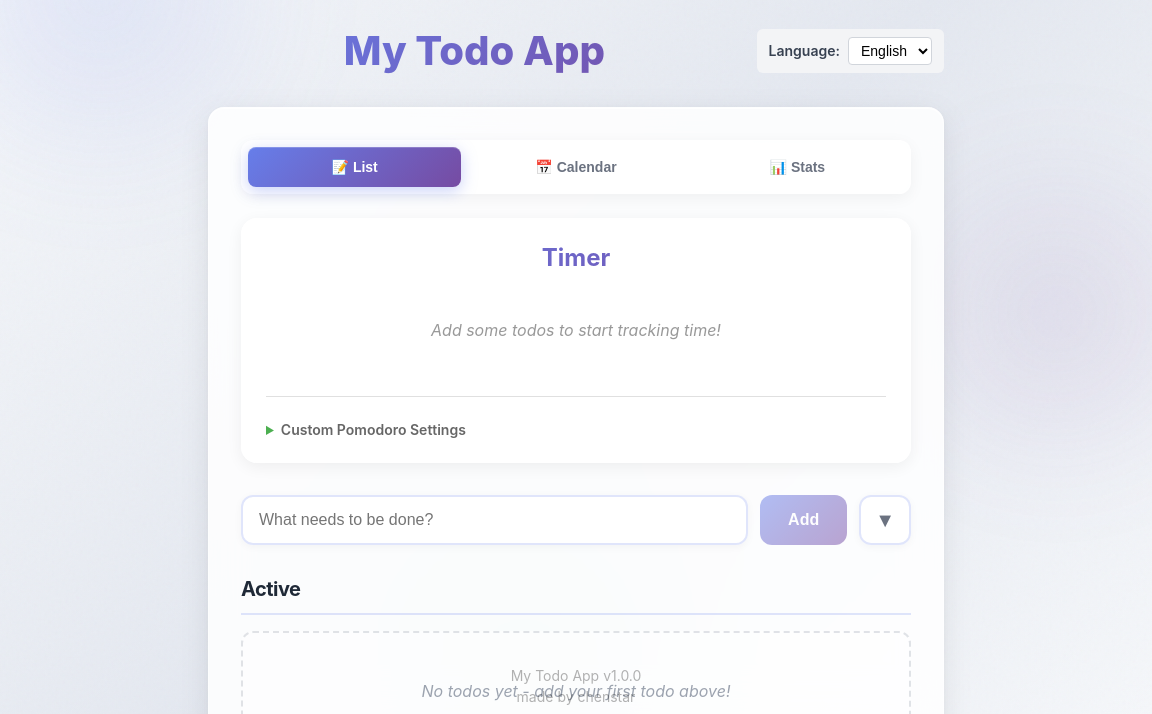
Todo App Integration - Mark Complete › should move completed todos to separate section
In the field: coordinates (495, 520) [241, 495, 748, 545], type "Active todo"
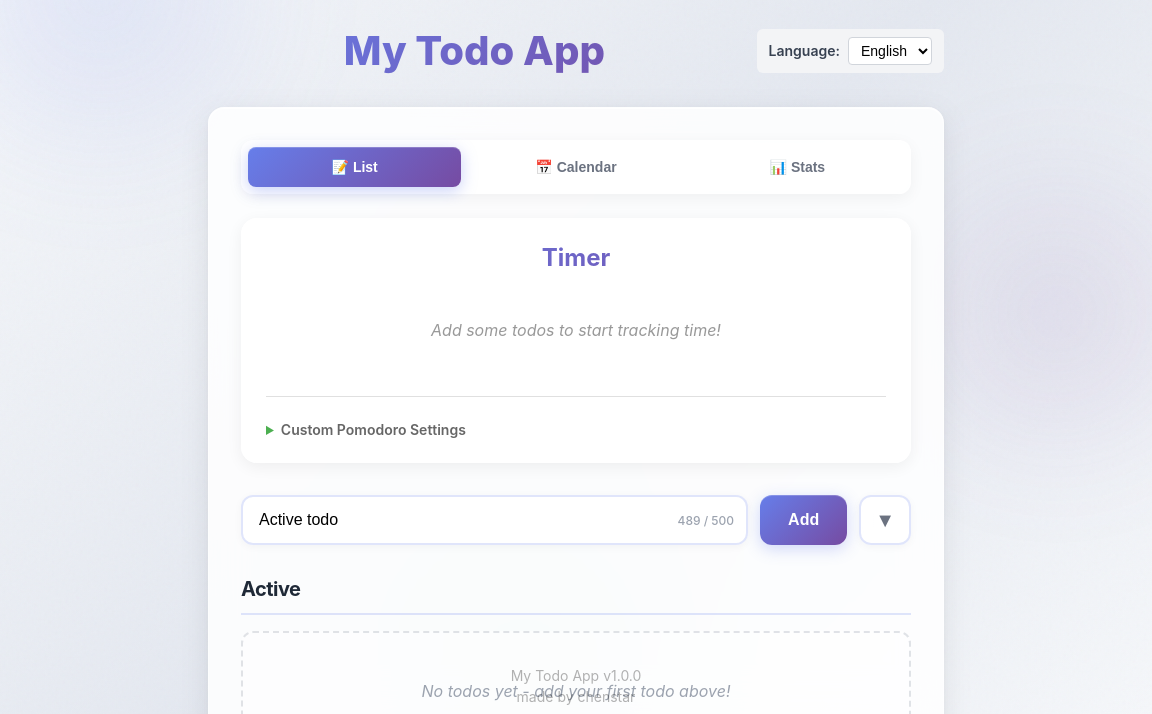
Submit the form, box [241, 495, 911, 545]
(page scrolled)
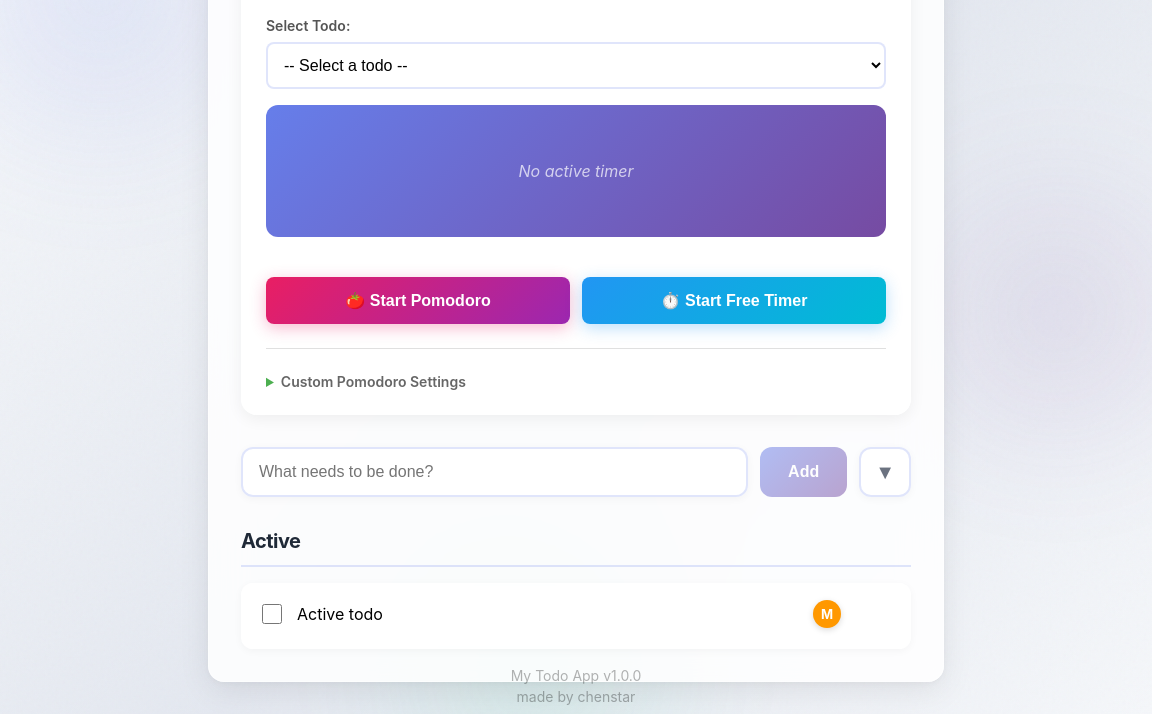
In the field: coordinates (495, 472) [241, 447, 748, 497], type "Completed todo"
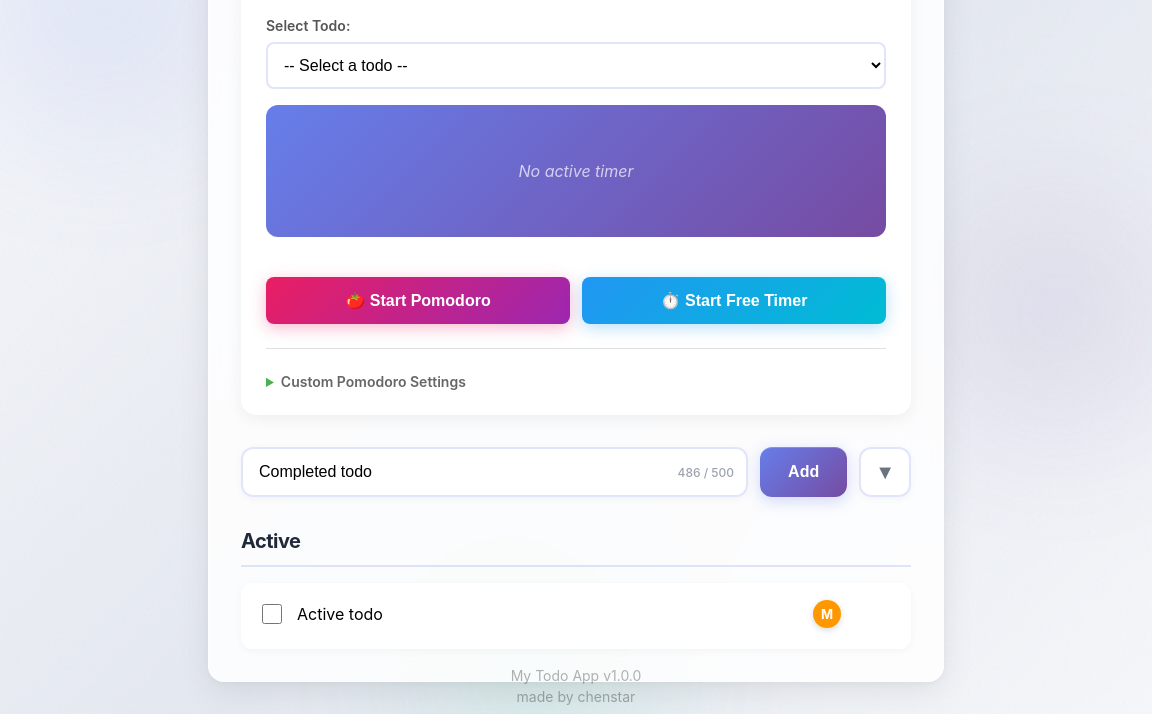
Submit the form, box [241, 447, 911, 497]
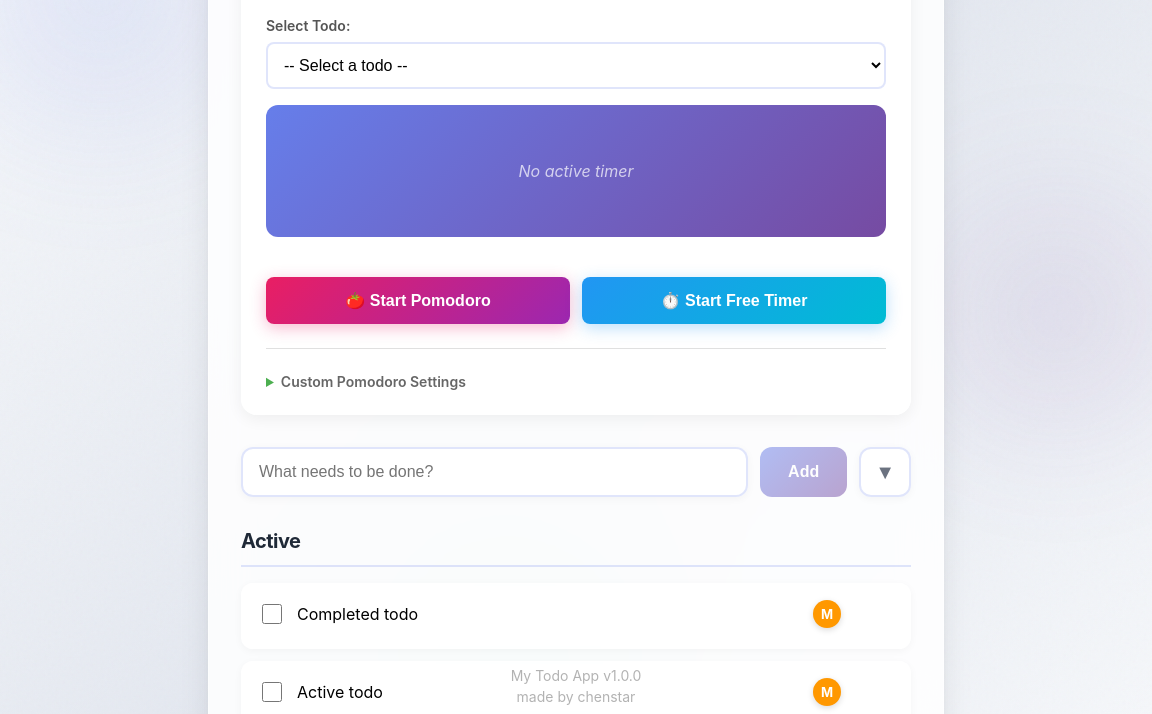
Click the checkbox named "Mark \"Completed todo\" as complete": coordinates (272, 614) [262, 604, 282, 624]
(page scrolled)
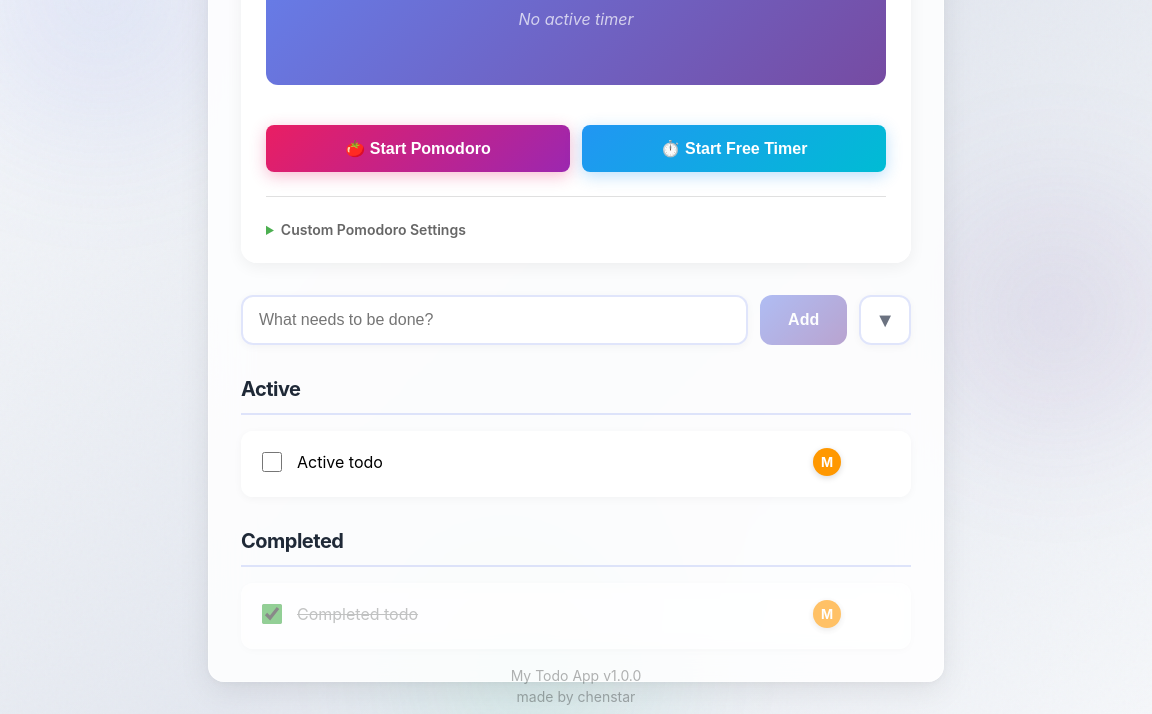
Expected: the list item "Active todo M" is shown, [241, 431, 911, 497]
Expected: the list item "Completed todo M" is shown, [241, 583, 911, 649]
Expected: the heading "Completed" is shown, [241, 529, 911, 567]
